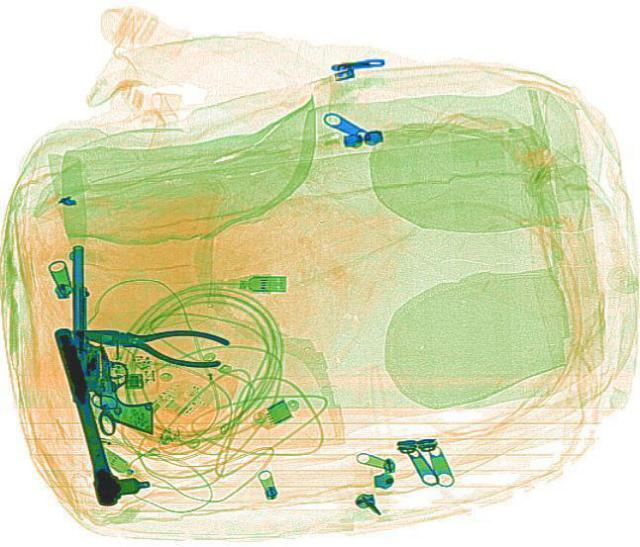Gun: (67, 245, 106, 390), (97, 347, 153, 433)
Pliers: (68, 311, 230, 372)
